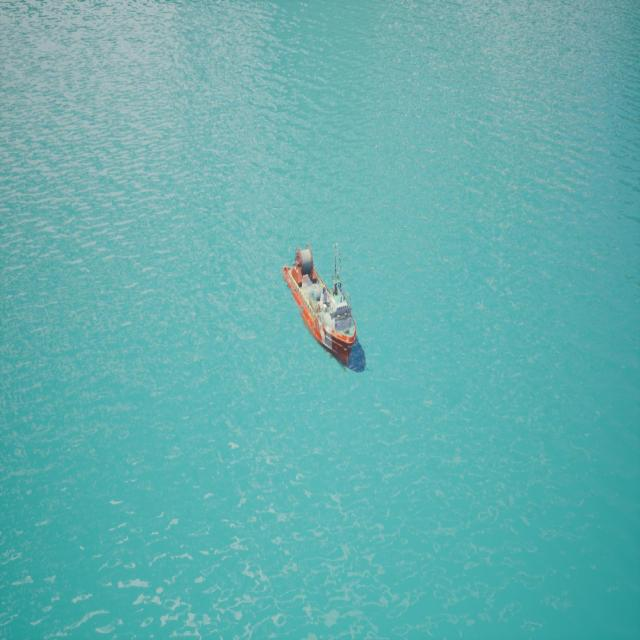tug boat: (276, 237, 378, 377)
